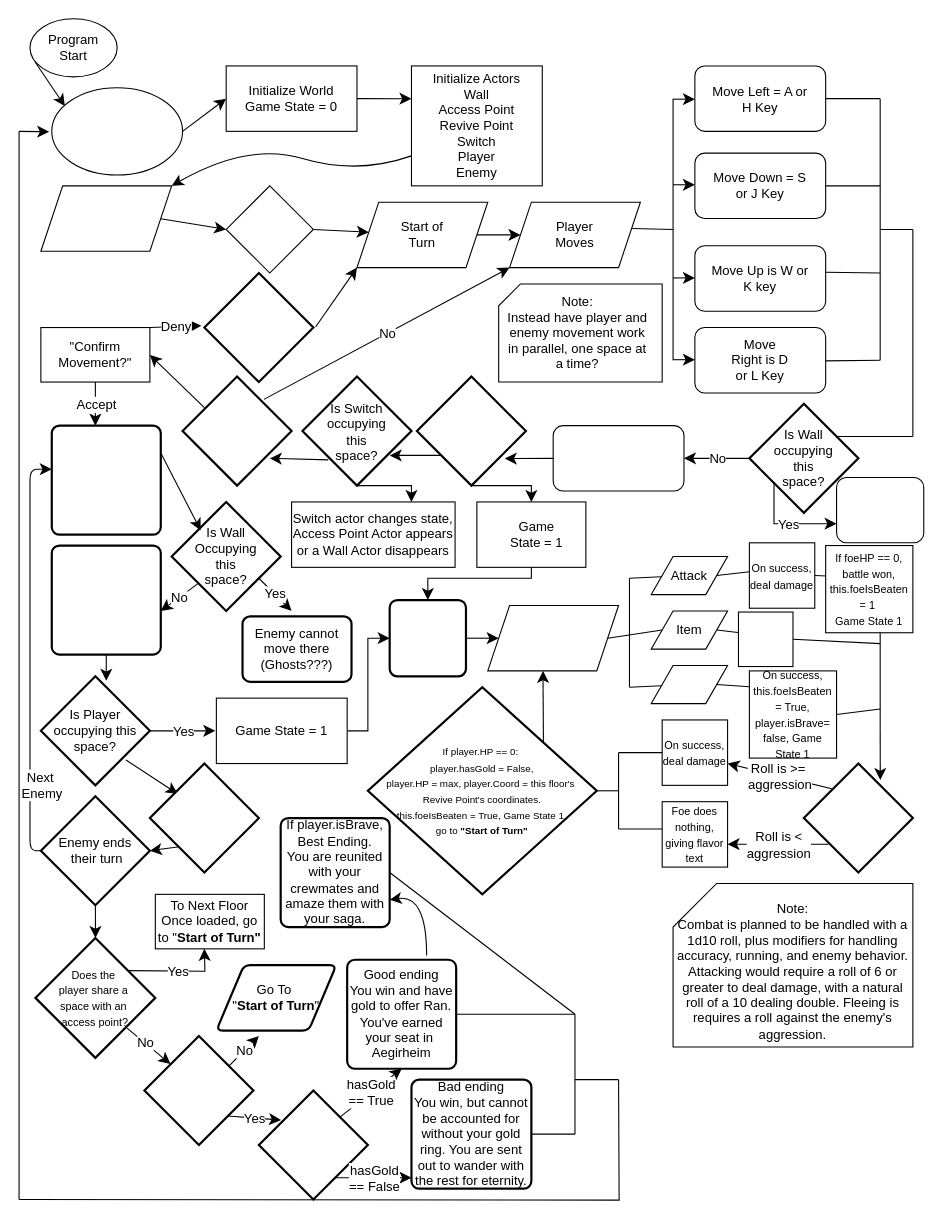
The diagram is 943 pixels wide and 1221 high, and some of its shapes have lost their labels. The shapes that lost their labels are listed below. From the top down, each one's centre as x and y in pixels, then its label:
At point (117, 131): "Game Start".
At point (106, 218): "User Selects Start Button".
At point (269, 229): "Game State == 0".
At point (258, 327): "Reset player".
At point (236, 430): "Is spacesMoved == playerMove?".
At point (470, 430): "Is Enemy occupying this space?".
At point (618, 458): "Player moves there; spacesMoved++".
At point (105, 479): "Enemies Move, taking a direct or indirect path to Player".
At point (879, 509): "Player cannot move there".
At point (105, 599): "Enemy moves there; spacesMoved++ per space moved".
At point (427, 637): "Combat Start".
At point (553, 637): "Player Action".
At point (765, 639): "Select item, if any; heal".
At point (689, 684): "Run".
At point (203, 817): "If spacesMoved == foeMove".
At point (857, 817): "Enemy Turn".
At point (198, 1090): "Does the player share a space with an escape actor?".
At point (312, 1144): "Game State 2".
